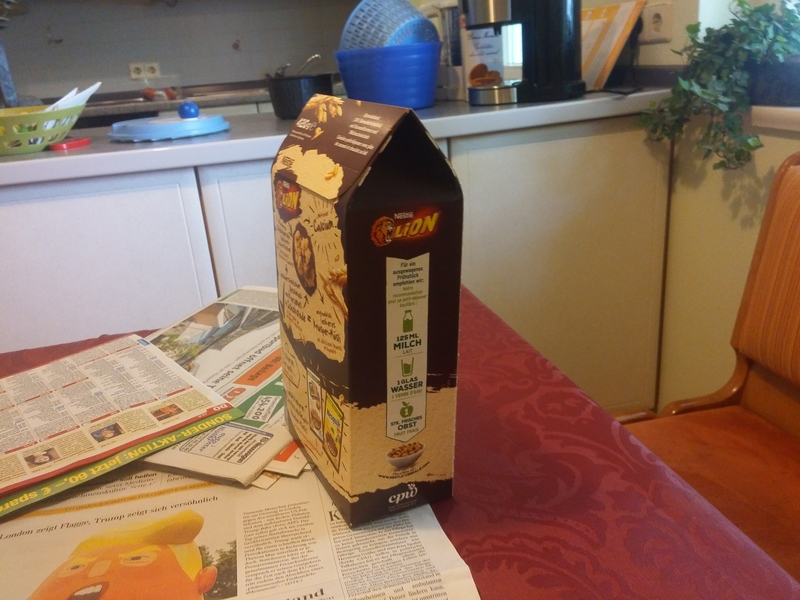cereals: (271, 91, 466, 530)
